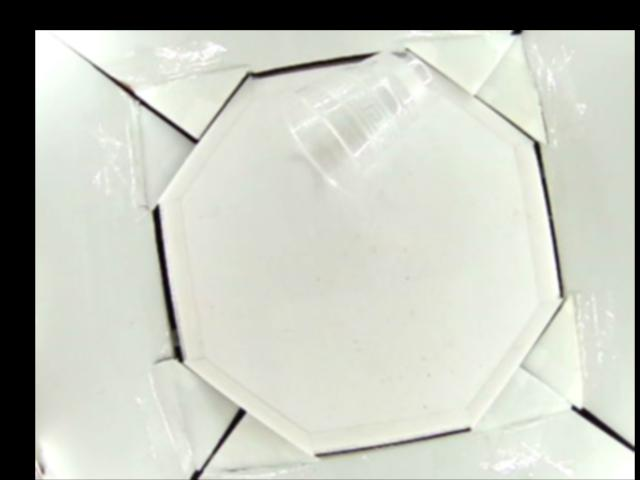Cup: (280, 48, 431, 189)
